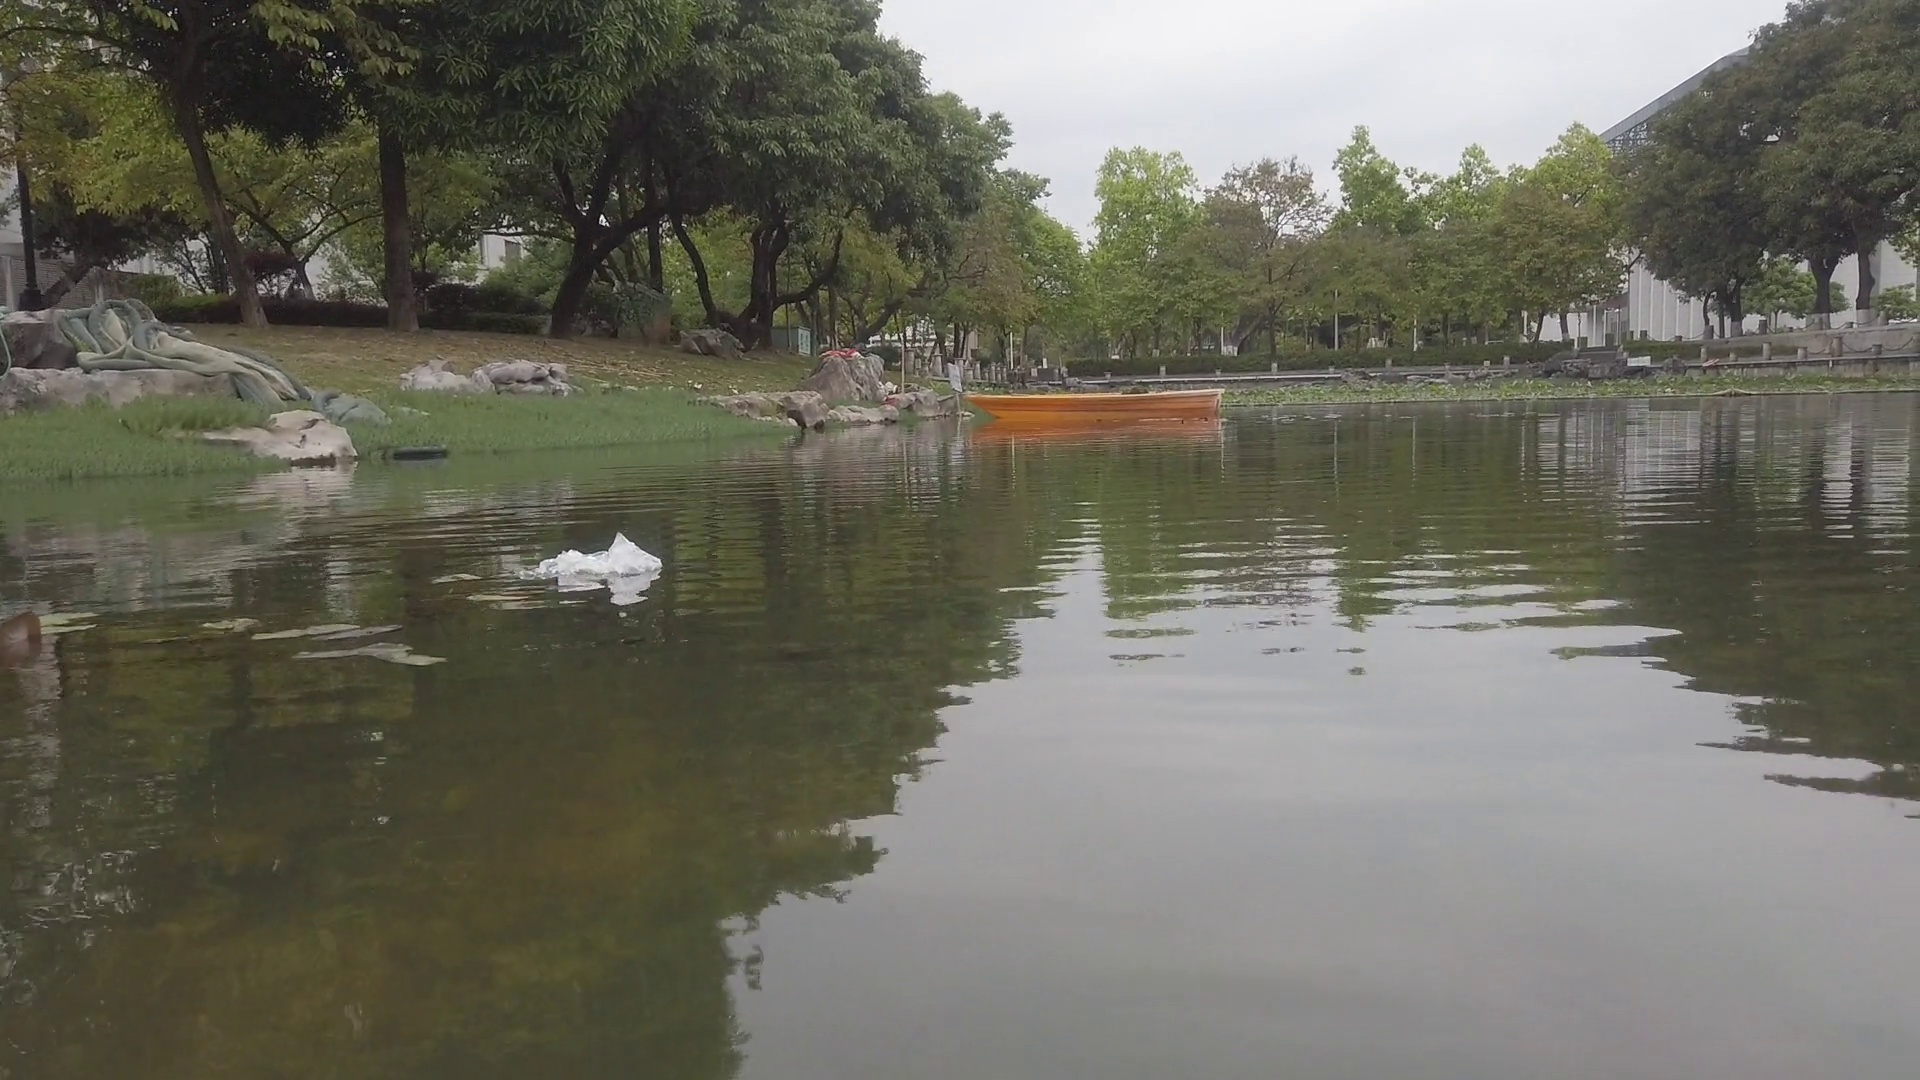plastic: (531, 531, 666, 575)
